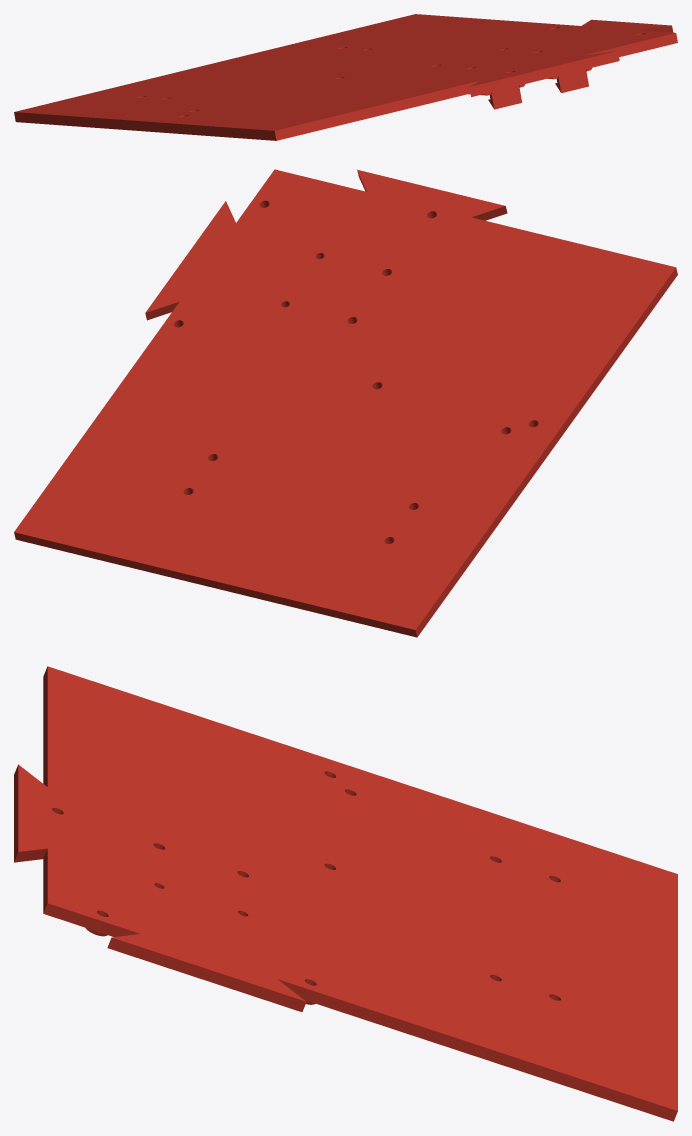
File: EBoxNewAsm_stp_1_Midplane_stp_1_solid1.obj
The picture shows the model from 3 angles, top to bottom: view 1: azimuth 30°, elevation 25°; view 2: azimuth 150°, elevation 25°; view 3: azimuth 270°, elevation 25°; orthographic projection. The views are drawn at different scales.
Parts seen in each view (by area): view 1: mesh7941, mesh7945, mesh7949, mesh7950, mesh7947, mesh8018, mesh8026; view 2: mesh7941, mesh7946, mesh7945; view 3: mesh7941, mesh7962, mesh7943, mesh7961.
Part boxes in pixels (x1,y1,x2,y2): mesh7941: [15, 14, 674, 130]; mesh7945: [14, 112, 276, 140]; mesh7949: [274, 81, 478, 140]; mesh7950: [469, 51, 619, 97]; mesh7947: [585, 33, 677, 57]; mesh8018: [491, 85, 522, 109]; mesh8026: [558, 69, 588, 93]; mesh7941: [14, 169, 675, 629]; mesh7946: [14, 532, 417, 637]; mesh7945: [415, 267, 677, 636]; mesh7941: [18, 666, 677, 1110]; mesh7962: [278, 979, 677, 1121]; mesh7943: [107, 937, 306, 1011]; mesh7961: [43, 903, 139, 936].
Bounding box in the file's own units: 0.19 × 0.0808 × 0.2132.
